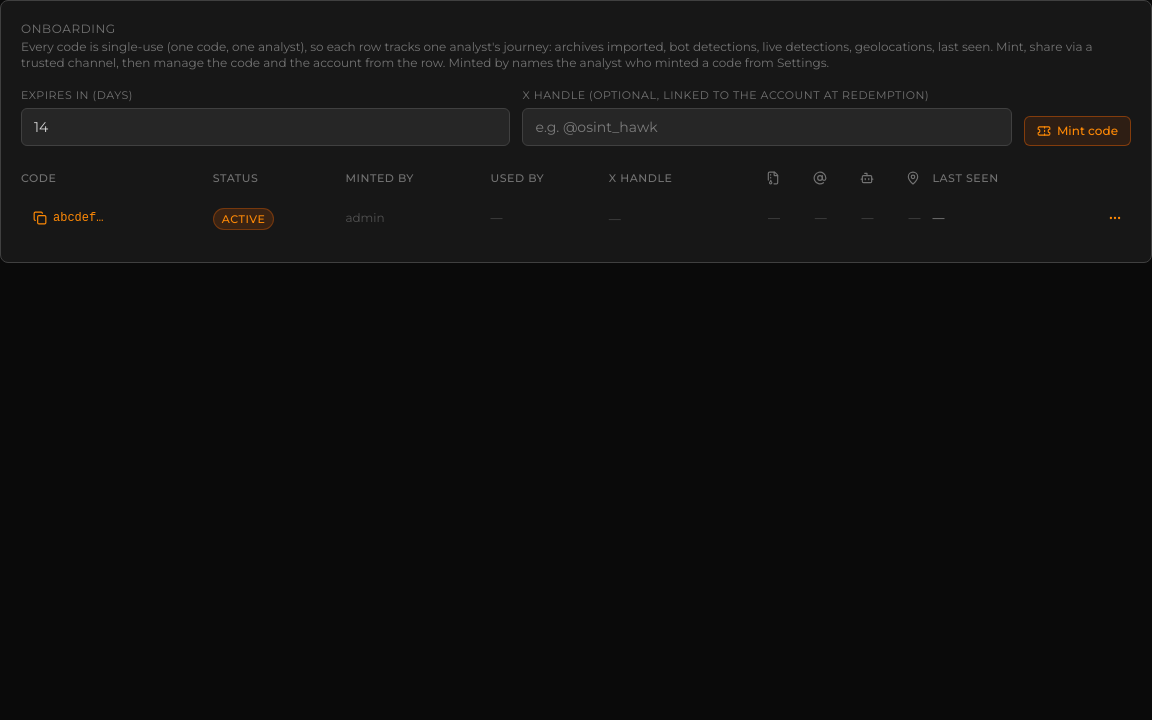
<OnboardingPanel> › keeps the dialog open with the refusal when a delete fails
Click the button named "More actions for abcdef" at (1115, 218), box left=1099, top=202, right=1131, bottom=234
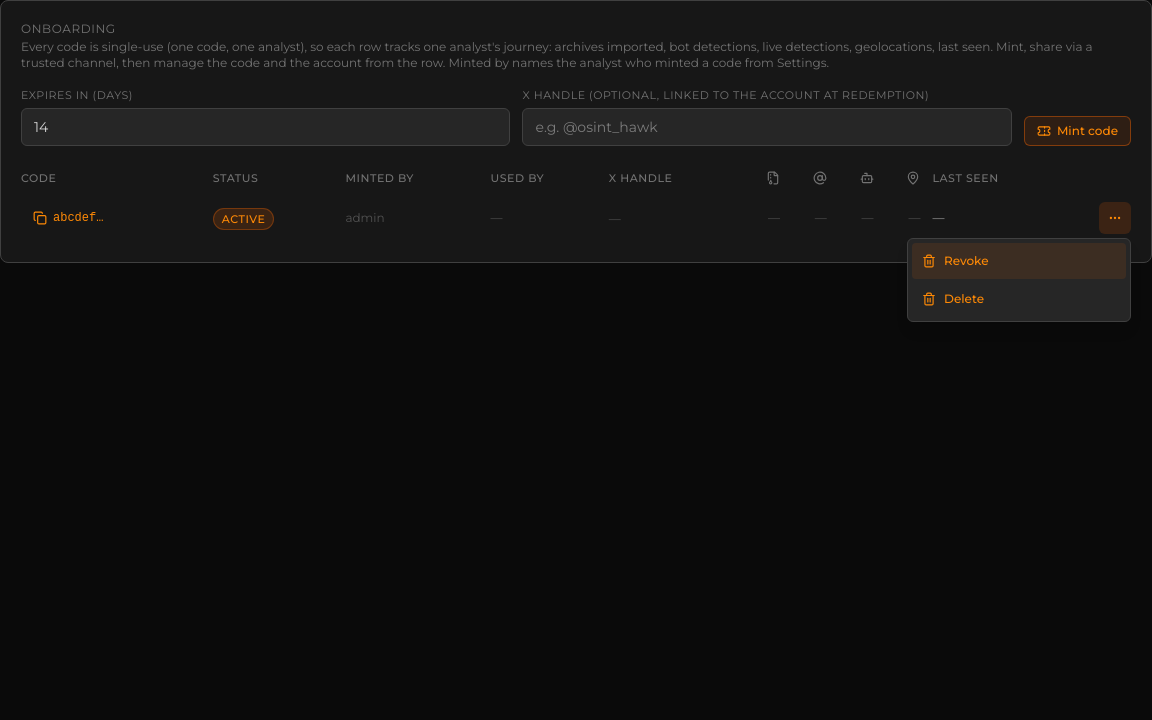
Click the menu item "Delete" at (1019, 299), box left=912, top=281, right=1126, bottom=317
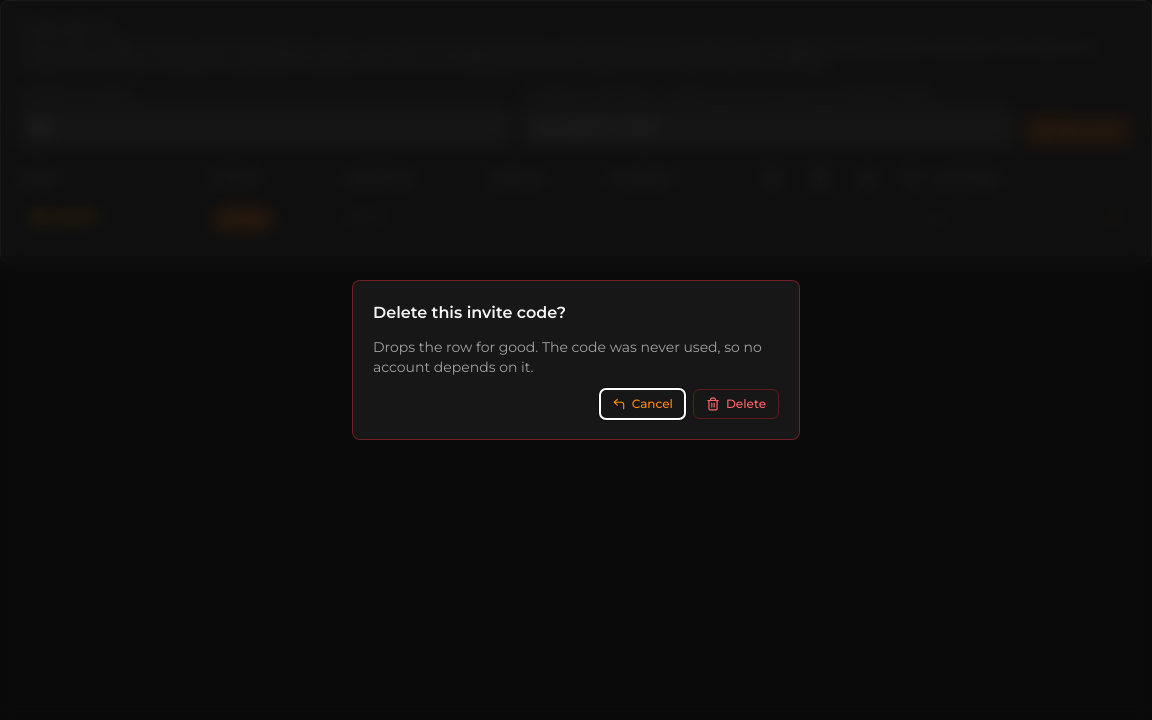
Click the button "Delete" at (736, 404), box left=693, top=389, right=779, bottom=419
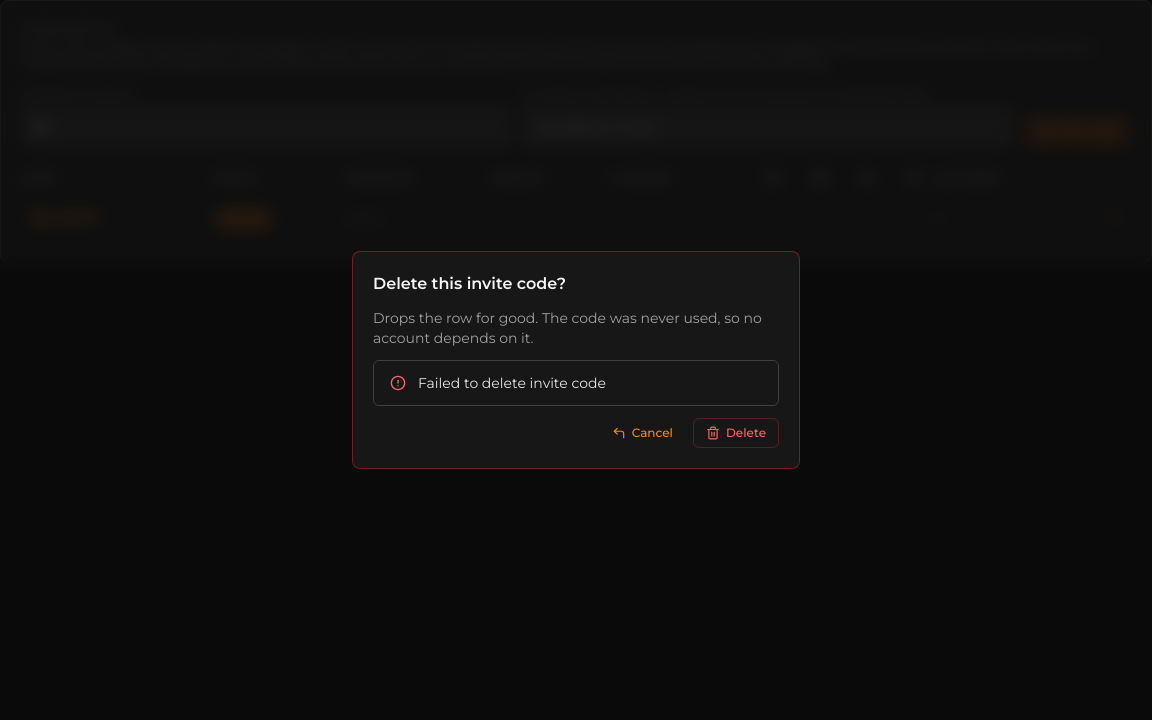
Expected: the message reads "Failed to delete invite code", left=418, top=374, right=606, bottom=392
